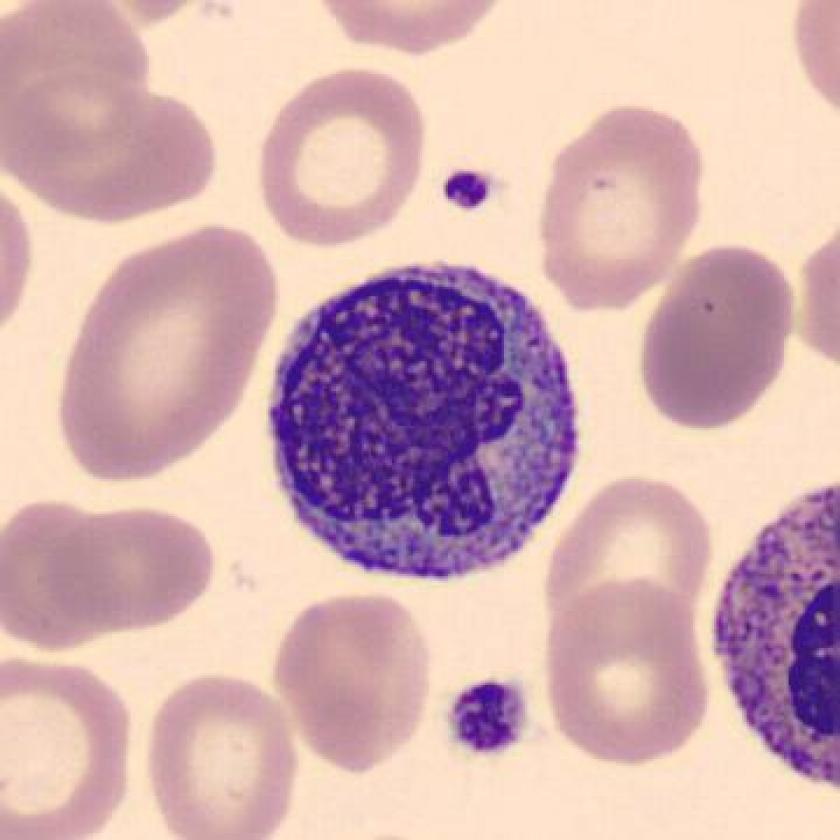monocyte: (248, 242, 603, 605)
